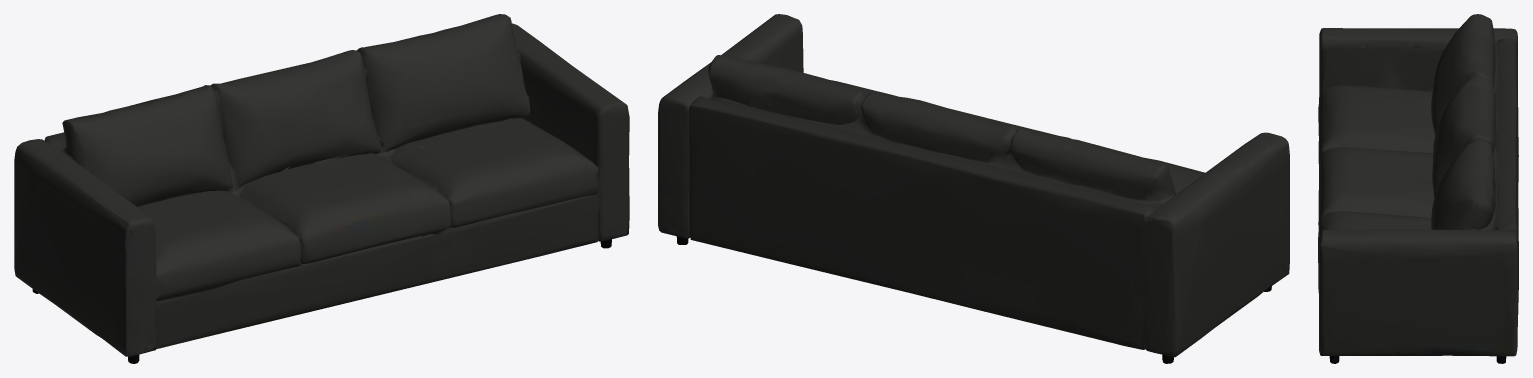
Rendered from 21 - VIMLE - 三人座沙發，GrannBomstad 黑色 IKEA 線上購物.glb.
3 renders of one model, left to right at view 1: azimuth 30°, elevation 25°; view 2: azimuth 150°, elevation 25°; view 3: azimuth 270°, elevation 25°, orthographic. The views are drawn at different scales.
Visible parts, largest first — view 1: ProcessedMeshNode; view 2: ProcessedMeshNode; view 3: ProcessedMeshNode.
Boxes of the visible parts, x1=… form: ProcessedMeshNode: x1=14, y1=14, x2=629, y2=363; ProcessedMeshNode: x1=658, y1=14, x2=1289, y2=363; ProcessedMeshNode: x1=1318, y1=14, x2=1518, y2=363.
Bounding box in the file's own units: 2.42 × 0.8103 × 0.9453.
Materials: 1 (1 with a texture image).
